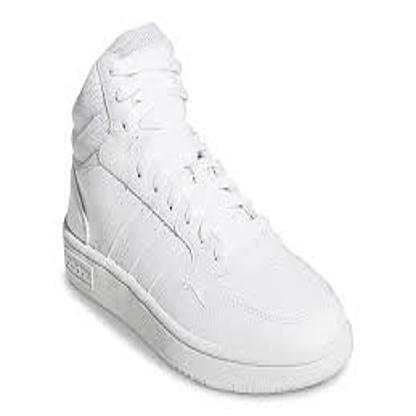not trash: (61, 25, 356, 393)
